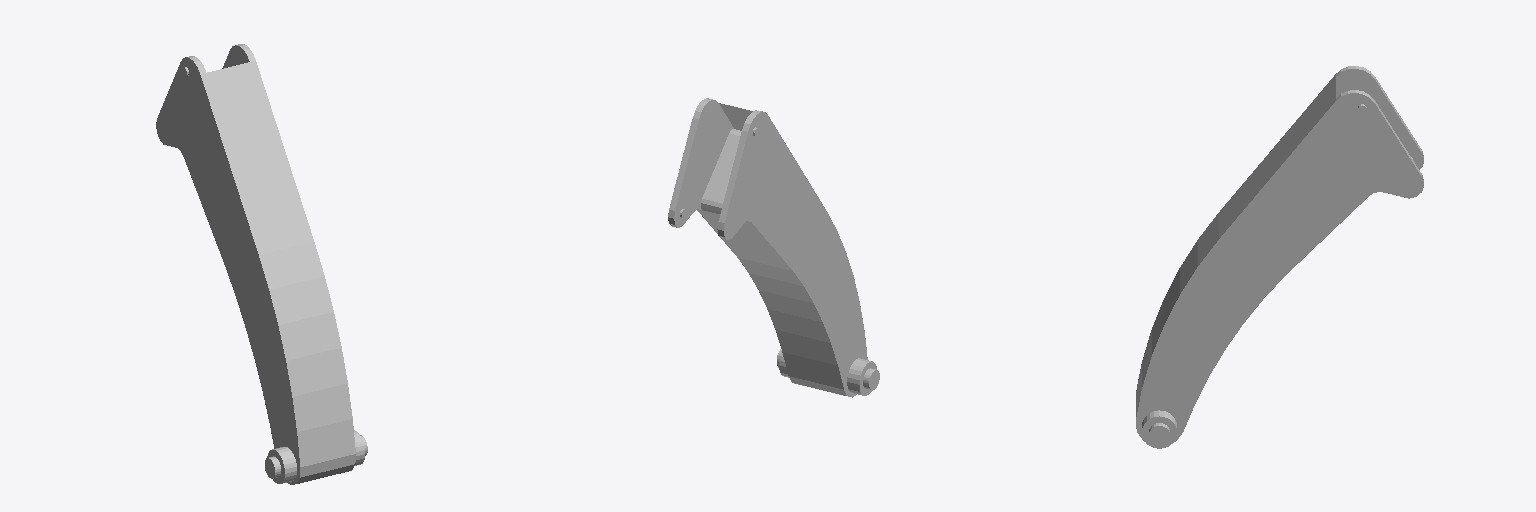
The model's file is ExMainBoom.obj.
3 views of the same model, side by side, from view 1: azimuth 30°, elevation 25°; view 2: azimuth 150°, elevation 25°; view 3: azimuth 270°, elevation 25° (orthographic).
Visible parts, largest first — view 1: Mesh1 Group1 Model; view 2: Mesh1 Group1 Model; view 3: Mesh1 Group1 Model.
Boxes of the visible parts, x1=… form: Mesh1 Group1 Model: x1=156, y1=44, x2=367, y2=484; Mesh1 Group1 Model: x1=668, y1=98, x2=879, y2=397; Mesh1 Group1 Model: x1=1136, y1=66, x2=1423, y2=448.
Size of the model in its own units: 0.6 by 2.18 by 1.62.